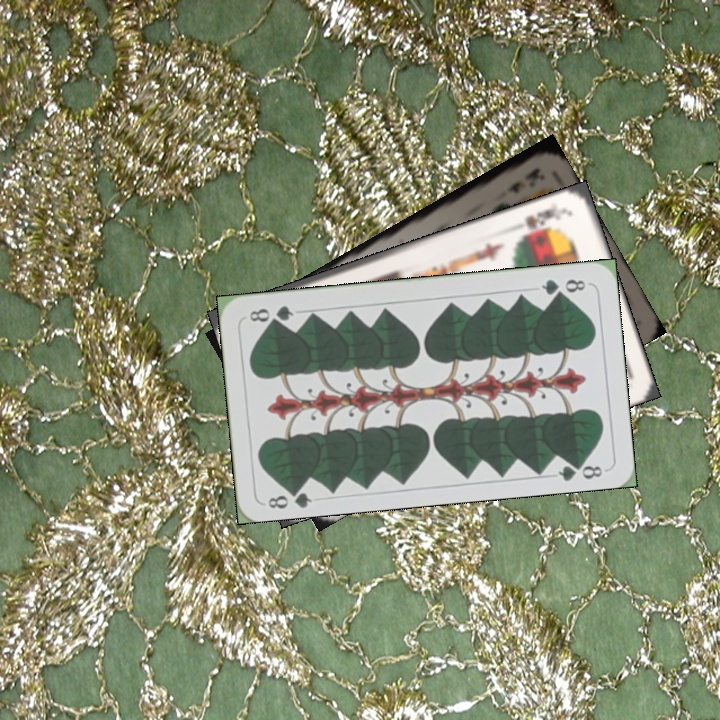EK: (503, 163, 546, 196)
G8: (264, 482, 314, 512), (537, 275, 588, 299)
SK: (514, 204, 568, 240)
